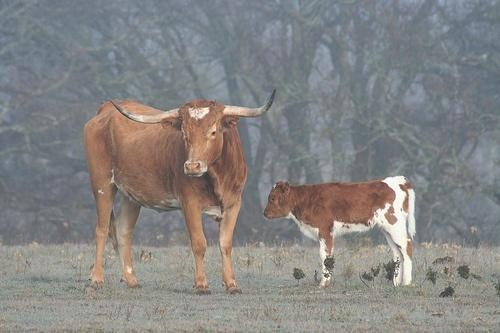cow: (86, 89, 279, 295), (263, 177, 420, 295)
